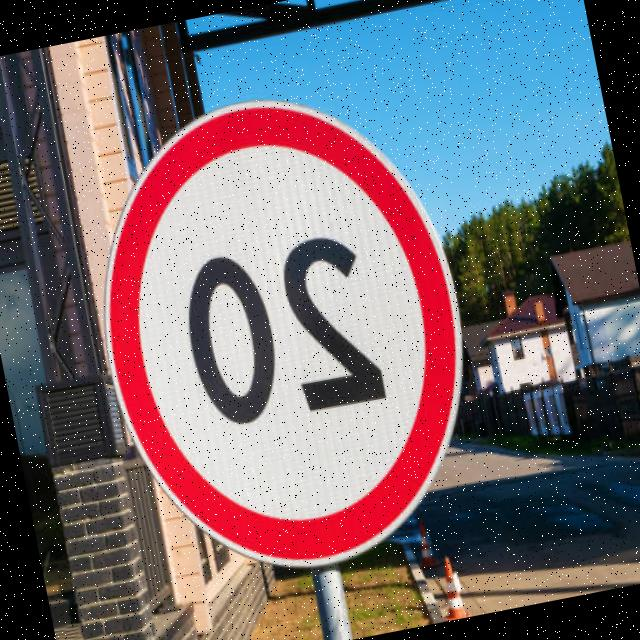speed_limit_20: (63, 50, 508, 612)
